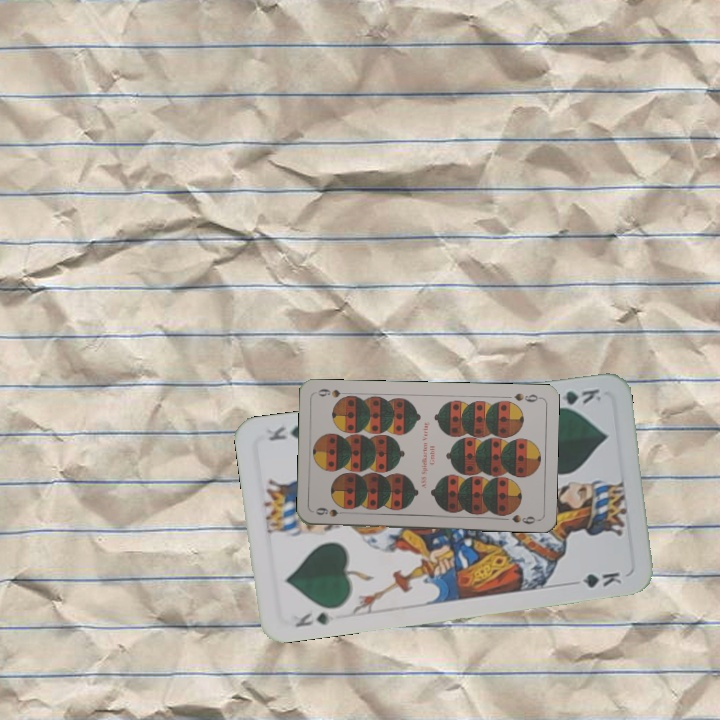GK: (548, 384, 605, 412), (290, 606, 333, 630)
S9: (312, 504, 352, 519), (510, 389, 543, 405)
